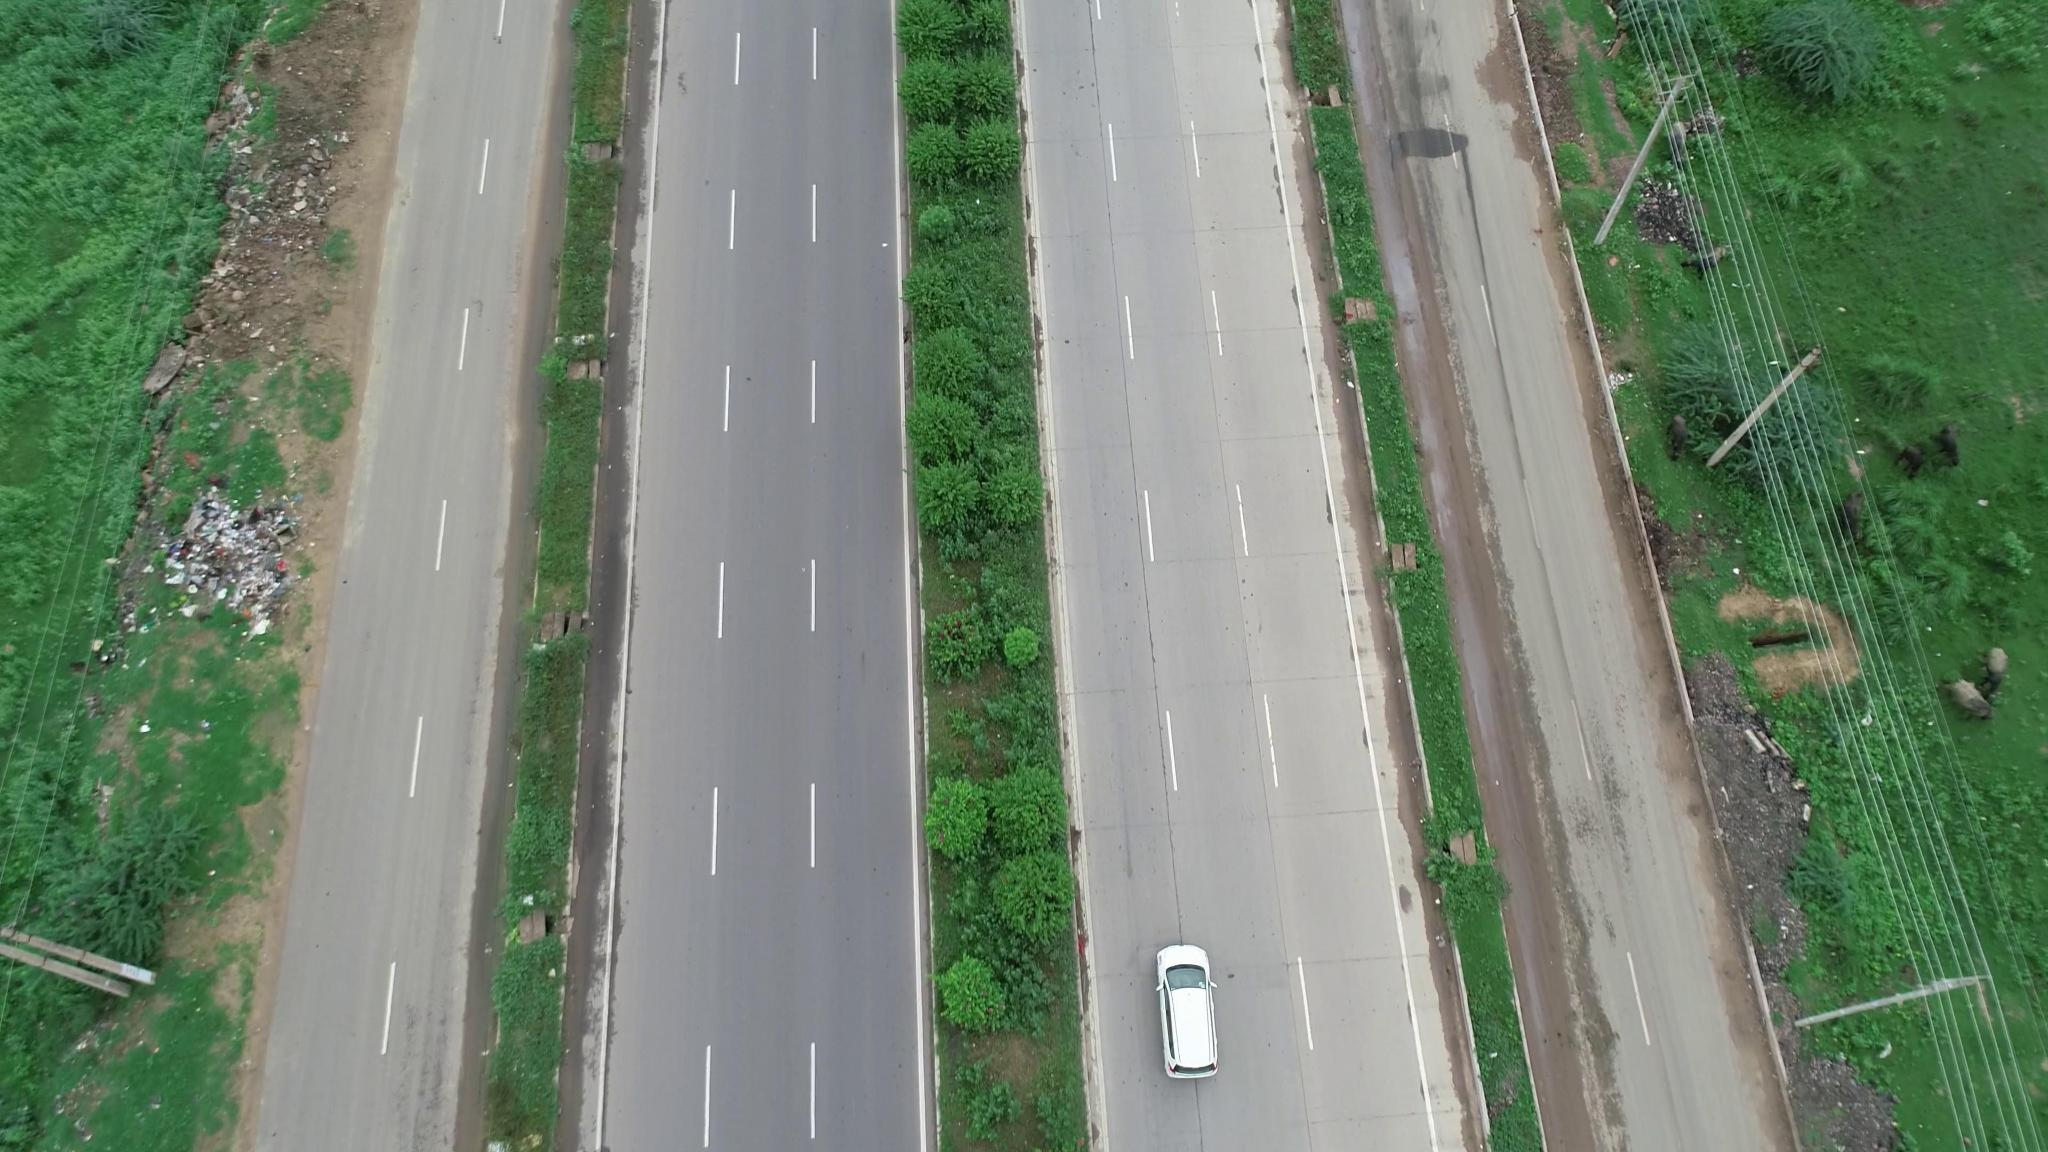Road_side_garbage: (160, 487, 308, 640)
